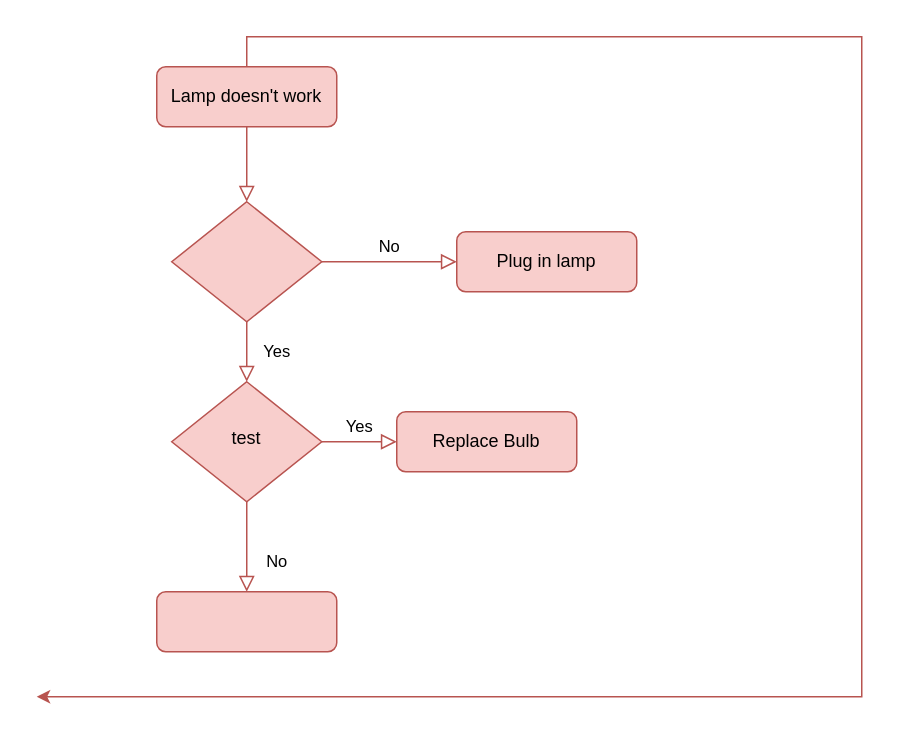
Some shapes in this 900 by 735 pixel diagram are drawn without their labels. The centre of each missing label's shape, as x and y in pixels:
"Lamp plugged in?" goes at (246,261).
"Repair Lamp" goes at (246,621).
